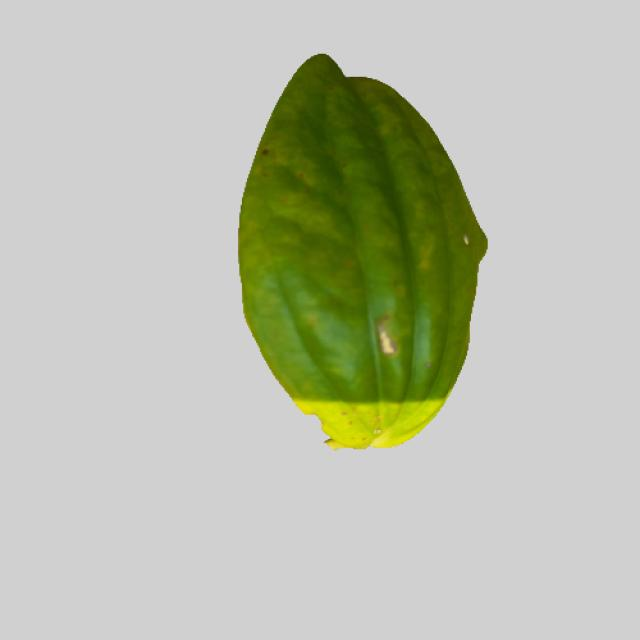yellow-mottle-virus: (225, 52, 494, 448)
